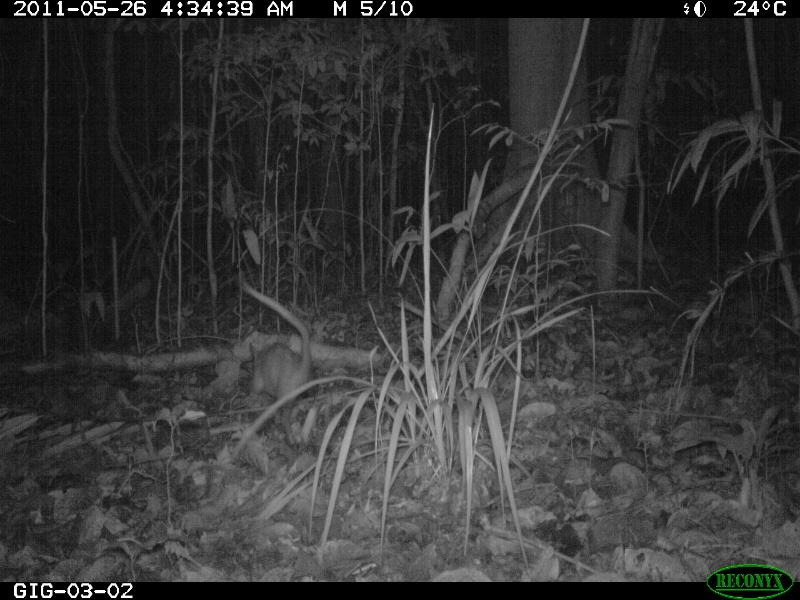opossum: (236, 277, 321, 443)
